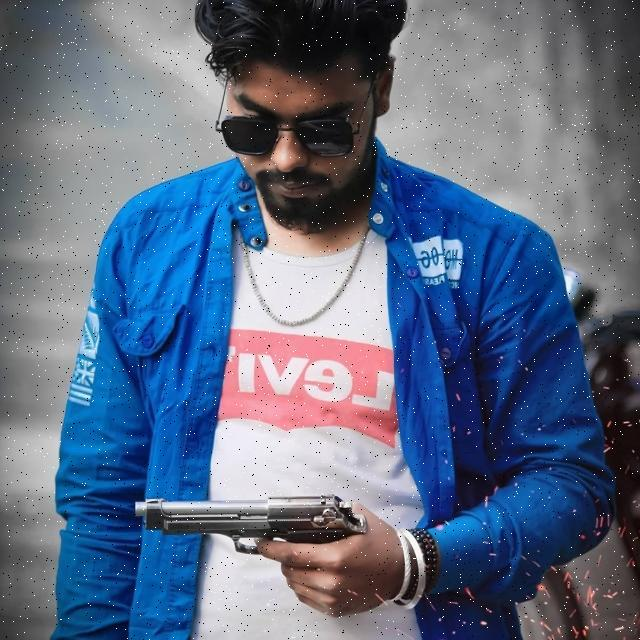gun: (125, 487, 383, 617)
